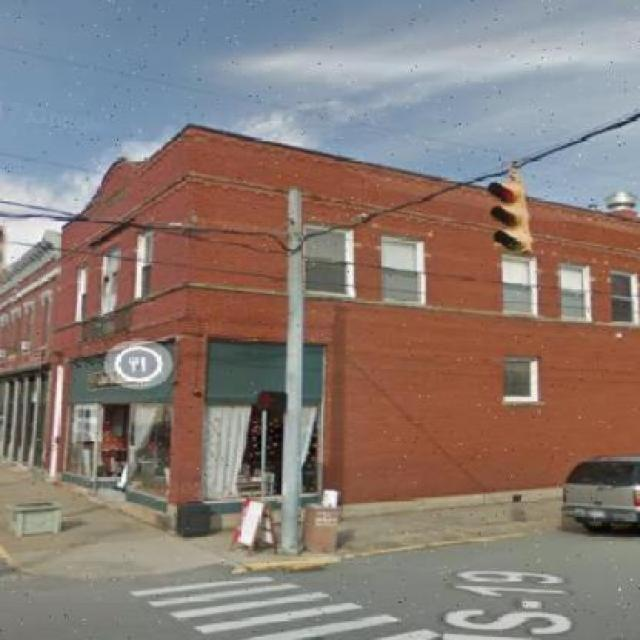pole: (228, 162, 372, 570)
